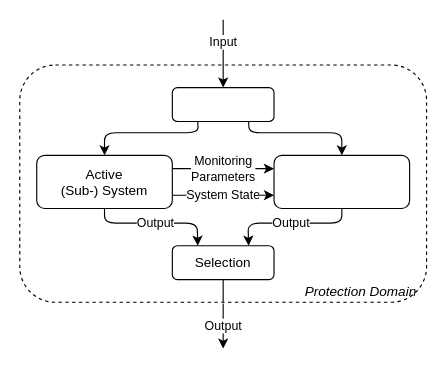
This 446x377 diagram has some shape labels left out. The shapes that lost their labels are listed below. From the top down, each one's centre as x and y in pixels, then its label:
point 222,103: Replication
point 341,181: Standby (Sub-) Systems
